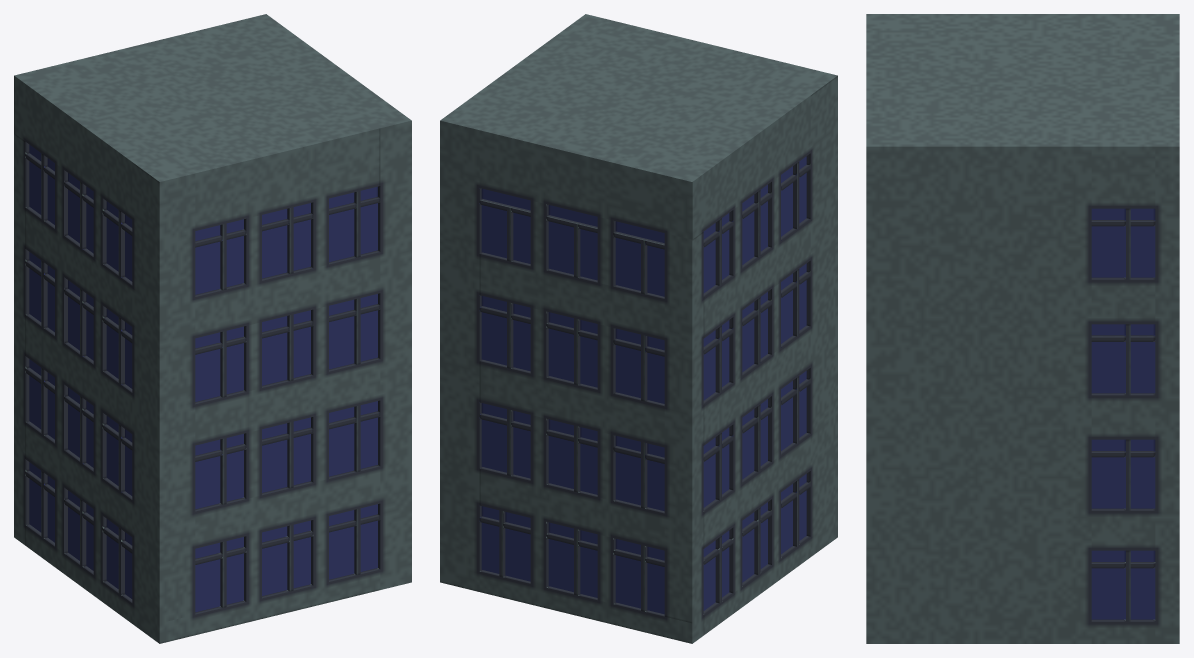
The model's file is b_uni5_med3.dae.
The picture shows the model from 3 angles, left to right: view 1: azimuth 30°, elevation 25°; view 2: azimuth 150°, elevation 25°; view 3: azimuth 270°, elevation 25°; orthographic projection. The views are drawn at different scales.
Parts seen in each view (by area): view 1: Content; view 2: Content; view 3: Content.
Boxes of the visible parts, box(x1,y1,x2,y2) form: Content: box(14, 14, 411, 643); Content: box(440, 14, 837, 643); Content: box(866, 14, 1179, 643).
Size of the model in its own units: 64 by 112 by 64.
1 material, 1 textured.
